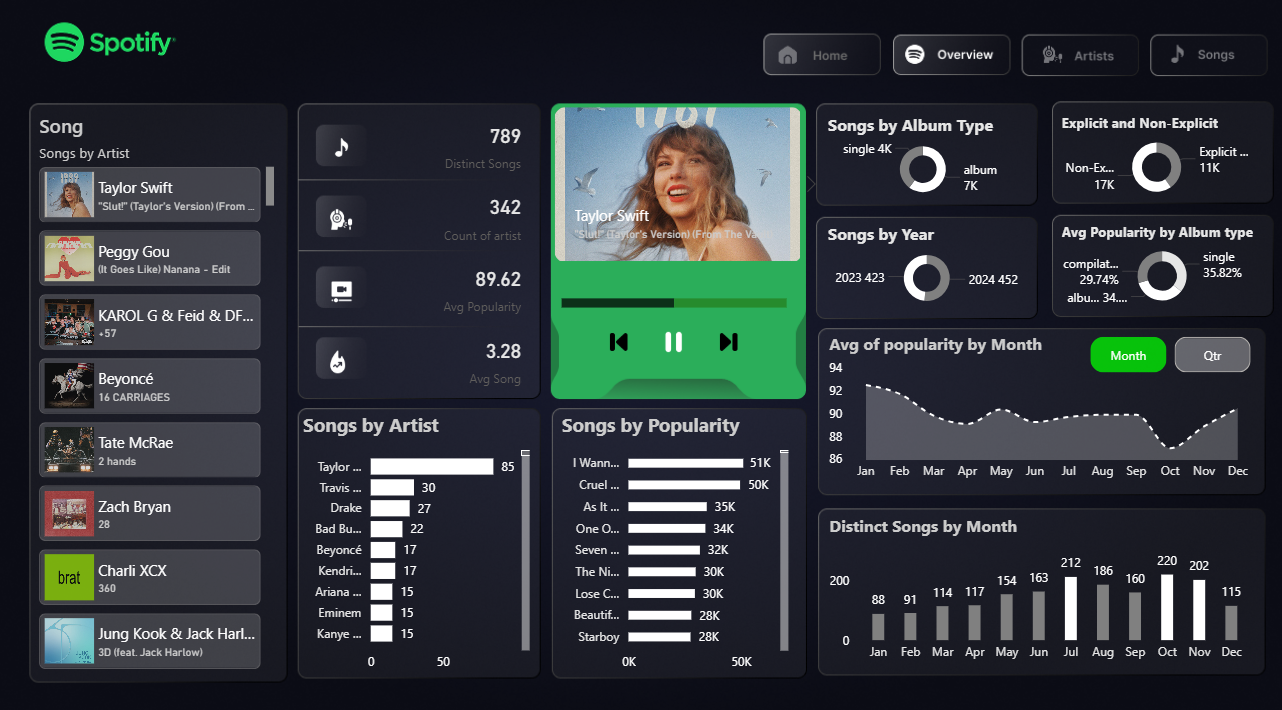

What the dashboard file says about the page in this screenshot:
{"tool":"powerbi","page":{"name":"Overview","canvas":[1280,720],"ordinal":1},"visuals":[{"type":"clusteredBarChart","title":"Songs by Artist","fields":{"Category":["Top-50-world.artist"],"Y":["Top-50-world.Distinct Songs"]},"box":[296.5,414.9,234.2,264.7],"z":0},{"type":"clusteredBarChart","title":"Songs by Popularity","fields":{"Category":["Top-50-world.song"],"Y":["Sum(Top-50-world.popularity)"]},"box":[552,415,234,265],"z":1000},{"type":"areaChart","title":"Avg of popularity by Month","fields":{"Category":["Top-50-world.Month"],"Y":["Avg(Top-50-world.popularity)"]},"box":[815.6,335.4,427.1,155.6],"z":2000},{"type":"advancedSlicerVisual","fields":{"Values":["Slicer_option.Slicer_option"]},"box":[1073.7,335.4,168.9,45.8],"z":3000},{"type":"donutChart","title":"Songs  by Album Type","fields":{"Y":["Top-50-world.Explicit Songs Count"],"Category":["Top-50-world.album_type"]},"box":[815.4,119.2,197.7,89.2],"z":4000},{"type":"donutChart","title":"Explicit and Non-Explicit ","fields":{"Y":["Top-50-world.Explicit Songs Count","Top-50-world.Non-Explicit Songs Count"]},"box":[1045.4,119.2,197.7,89.2],"z":5000},{"type":"donutChart","title":"Songs  by Year","fields":{"Y":["Top-50-world.Distinct Songs"],"Category":["Top-50-world.Year"]},"box":[815.4,226.9,205.4,89.2],"z":6000},{"type":"donutChart","title":"Avg Popularity by Album type","fields":{"Category":["Top-50-world.album_type"],"Y":["Top-50-world.Average Popularity"]},"box":[1045.4,226.9,208.5,89.2],"z":7000},{"type":"clusteredColumnChart","fields":{"Category":["Top-50-world.Month"],"Y":["Top-50-world.Distinct Songs"]},"box":[815.7,515.7,426.4,154.3],"z":8000},{"type":"cardVisual","fields":{"Data":["Top-50-world.Distinct Songs"]},"box":[413.8,119.4,120.6,70],"z":9000},{"type":"cardVisual","fields":{"Data":["Count(Top-50-world.artist)"]},"box":[413.8,190.2,120.6,70],"z":10000},{"type":"cardVisual","fields":{"Data":["Top-50-world.Average Song Duration (Minutes)"]},"box":[413.8,331.8,120.6,70],"z":11000},{"type":"cardVisual","fields":{"Data":["Top-50-world.Average Popularity"]},"box":[413.8,261,120.6,70],"z":12000},{"type":"image","box":[318.6,349.3,40.7,32.1],"z":13000},{"type":"image","box":[322.1,140,34.3,28.6],"z":14000},{"type":"image","box":[318.6,208.6,40.7,32.1],"z":15000},{"type":"image","box":[320.7,278.6,37.1,34.3],"z":16000},{"type":"advancedSlicerVisual","title":"Song","fields":{"Values":["Top-50-world.song"]},"box":[36.3,119.5,242.1,554.2],"z":17000},{"type":"advancedSlicerVisual","fields":{"Values":["Top-50-world.song"]},"box":[524,107,295,164],"z":18000},{"type":"barChart","fields":{"Y":["Top-50-world.Avg Popularity","Avg(Top-50-world.popularity)"]},"box":[552,260,258,88],"z":19000},{"type":"image","box":[701,331,40,30],"z":20000},{"type":"image","box":[593,331,40,30],"z":21000},{"type":"image","box":[647,331,40,30],"z":22000},{"type":"shape","box":[544,107,257,295],"z":23000},{"type":"actionButton","box":[758.8,42.2,120,40],"z":24000},{"type":"actionButton","box":[878.7,42.4,120,40],"z":25000},{"type":"actionButton","box":[1014.4,42.4,120,40],"z":26000},{"type":"actionButton","box":[1140.1,42.4,120,40],"z":27000}]}

Visuals, with their boxes in screenshot pixels (x1, y1, x2, y2), scaled from the page's 1280x720 canvas onto the 1282x710 screenshot:
"Songs by Artist" clusteredBarChart: (297,409,532,670)
"Songs by Popularity" clusteredBarChart: (553,409,787,671)
"Avg of popularity by Month" areaChart: (817,331,1245,484)
advancedSlicerVisual - Slicer_option.Slicer_option: (1075,331,1245,376)
"Songs  by Album Type" donutChart: (817,118,1015,206)
"Explicit and Non-Explicit " donutChart: (1047,118,1245,206)
"Songs  by Year" donutChart: (817,224,1022,312)
"Avg Popularity by Album type" donutChart: (1047,224,1256,312)
clusteredColumnChart - Top-50-world.Month x Top-50-world.Distinct Songs: (817,509,1244,661)
cardVisual - Top-50-world.Distinct Songs: (414,118,535,187)
cardVisual - Count(Top-50-world.artist): (414,188,535,257)
cardVisual - Top-50-world.Average Song Duration (Minutes): (414,327,535,396)
cardVisual - Top-50-world.Average Popularity: (414,257,535,326)
image: (319,344,360,376)
image: (323,138,357,166)
image: (319,206,360,237)
image: (321,275,358,309)
"Song" advancedSlicerVisual: (36,118,279,664)
advancedSlicerVisual - Top-50-world.song: (525,106,820,267)
barChart - Top-50-world.Avg Popularity x Avg(Top-50-world.popularity): (553,256,811,343)
image: (702,326,742,356)
image: (594,326,634,356)
image: (648,326,688,356)
shape: (545,106,802,396)
actionButton: (760,42,880,81)
actionButton: (880,42,1000,81)
actionButton: (1016,42,1136,81)
actionButton: (1142,42,1262,81)
